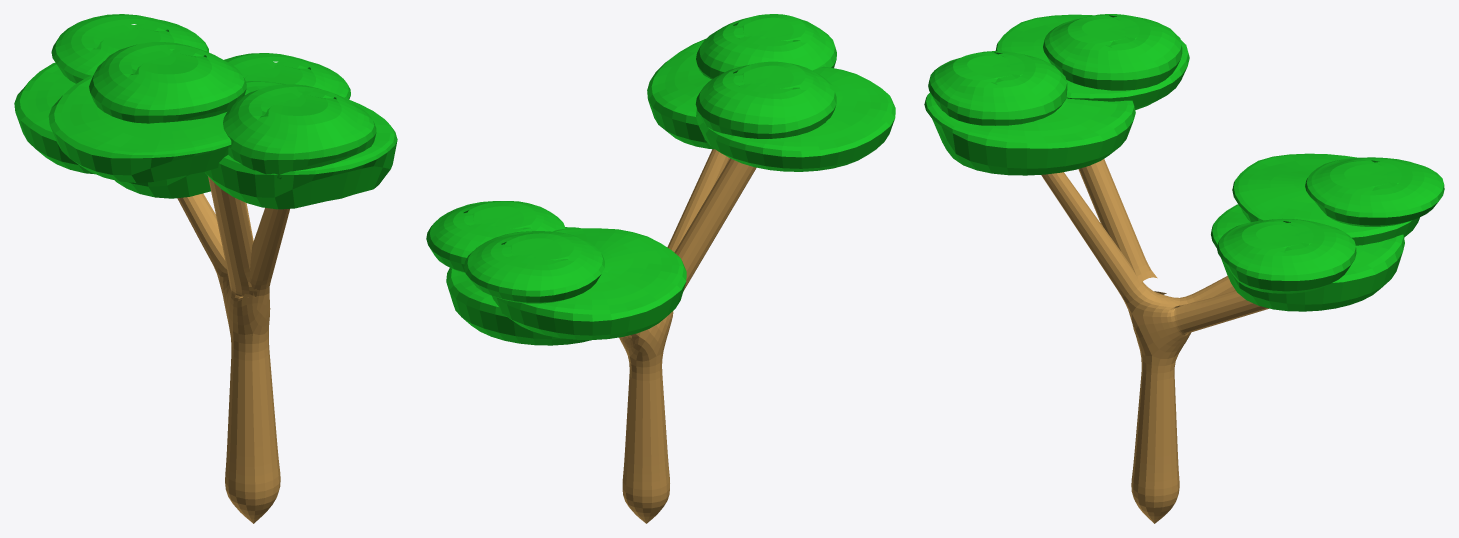
File: tree3.gltf
3 views of the same model, side by side, from view 1: azimuth 30°, elevation 25°; view 2: azimuth 150°, elevation 25°; view 3: azimuth 270°, elevation 25° (orthographic). The views are drawn at different scales.
Parts seen in each view (by area): view 1: Cube, Sphere.002, Sphere.009, Sphere.008, Sphere.004, Sphere.001, Sphere.005, Sphere.007, Sphere.006; view 2: Cube, Sphere.005, Sphere.002, Sphere.008, Sphere.001, Sphere.009, Sphere.007, Sphere.004, Sphere.006; view 3: Cube, Sphere.004, Sphere.008, Sphere.009, Sphere.007, Sphere.001, Sphere.005, Sphere.006, Sphere.002.
Part boxes in pixels (x1=…): Cube: x1=177, y1=176, x2=289, y2=523; Sphere.002: x1=48, y1=75, x2=251, y2=182; Sphere.009: x1=223, y1=84, x2=376, y2=179; Sphere.008: x1=89, y1=42, x2=246, y2=123; Sphere.004: x1=204, y1=81, x2=397, y2=209; Sphere.001: x1=51, y1=14, x2=208, y2=83; Sphere.005: x1=14, y1=62, x2=94, y2=174; Sphere.007: x1=224, y1=53, x2=350, y2=99; Sphere.006: x1=115, y1=172, x2=210, y2=198; Cube: x1=619, y1=149, x2=756, y2=523; Sphere.005: x1=492, y1=228, x2=686, y2=339; Sphere.002: x1=696, y1=66, x2=895, y2=171; Sphere.008: x1=695, y1=61, x2=836, y2=138; Sphere.001: x1=464, y1=231, x2=604, y2=303; Sphere.009: x1=696, y1=14, x2=836, y2=79; Sphere.007: x1=426, y1=201, x2=565, y2=272; Sphere.004: x1=647, y1=38, x2=714, y2=149; Sphere.006: x1=446, y1=227, x2=591, y2=345; Cube: x1=1041, y1=159, x2=1268, y2=523; Sphere.004: x1=924, y1=93, x2=1135, y2=175; Sphere.008: x1=1043, y1=14, x2=1182, y2=90; Sphere.009: x1=928, y1=51, x2=1067, y2=125; Sphere.007: x1=1217, y1=218, x2=1356, y2=293; Sphere.001: x1=1305, y1=157, x2=1444, y2=226; Sphere.005: x1=1232, y1=153, x2=1419, y2=245; Sphere.006: x1=1211, y1=204, x2=1404, y2=311; Sphere.002: x1=995, y1=14, x2=1189, y2=109.
Bounding box in the file's own units: 3.99 × 5.01 × 5.26.
